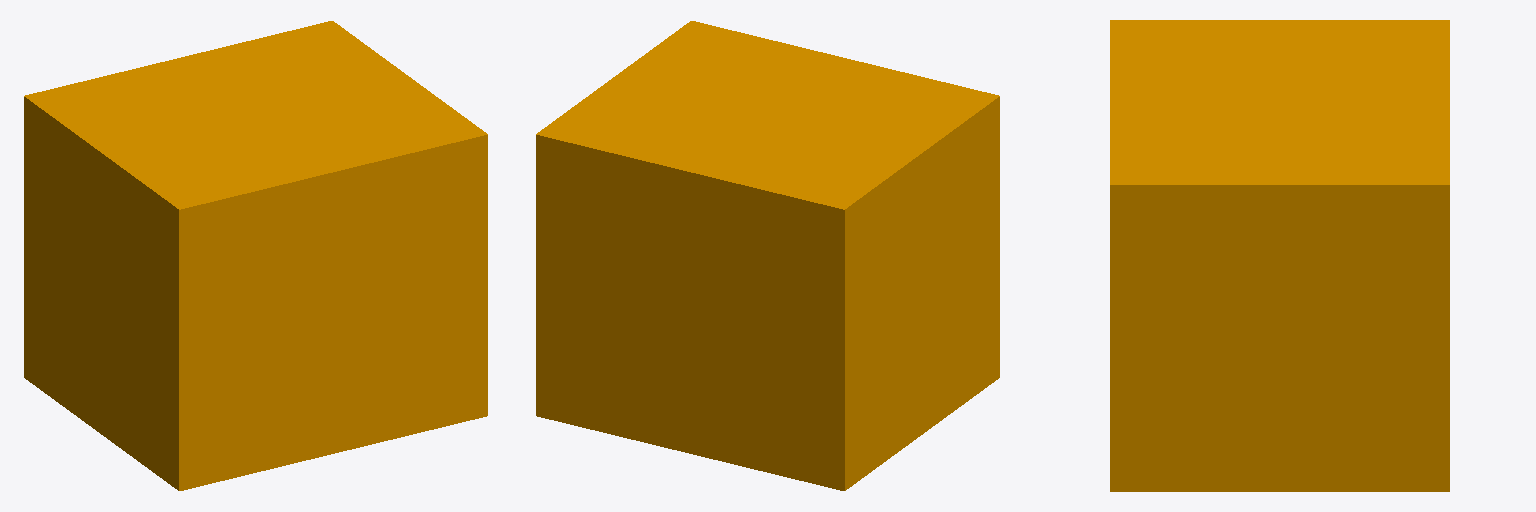
The robot description file, URDF, robot "object":
<?xml version="1.0"?>
<!-- Auto-generated by tools/gen_primitive_objects.py. kind=box dims=(0.074947, 0.065421, 0.065265) -->
<robot name="object">
  <link name="object">
    <visual>
      <origin xyz="0 0 0"/>
      <geometry>
        <box size="0.074947 0.065421 0.065265"/>
      </geometry>
    </visual>
    <collision>
      <origin xyz="0 0 0"/>
      <geometry>
        <box size="0.074947 0.065421 0.065265"/>
      </geometry>
    </collision>
    <inertial>
      <mass value="0.064000"/>
      <inertia ixx="0.00004554" ixy="0.0" ixz="0.0" iyy="0.00005268" iyz="0.0" izz="0.00005278"/>
    </inertial>
  </link>
</robot>

--- What the picture shows (computed from the rendered views, not written in the file) ---
3 views of the same robot in one strip: view 1: azimuth 30°, elevation 25°; view 2: azimuth 150°, elevation 25°; view 3: azimuth 270°, elevation 25° (orthographic).
Model object with 1 links and 0 joints (none), rooted at object, posed every joint at zero.
Visible links, largest first — view 1: object; view 2: object; view 3: object.
Boxes of the visible links, bbox=[...] form: object: bbox=[24, 21, 487, 490]; object: bbox=[536, 21, 999, 490]; object: bbox=[1110, 20, 1449, 491].
Bounding box of the posed robot: 0.0749 × 0.0654 × 0.0653 m (x, y, z).
Geometry: primitives only (box / cylinder / sphere), no mesh files.
